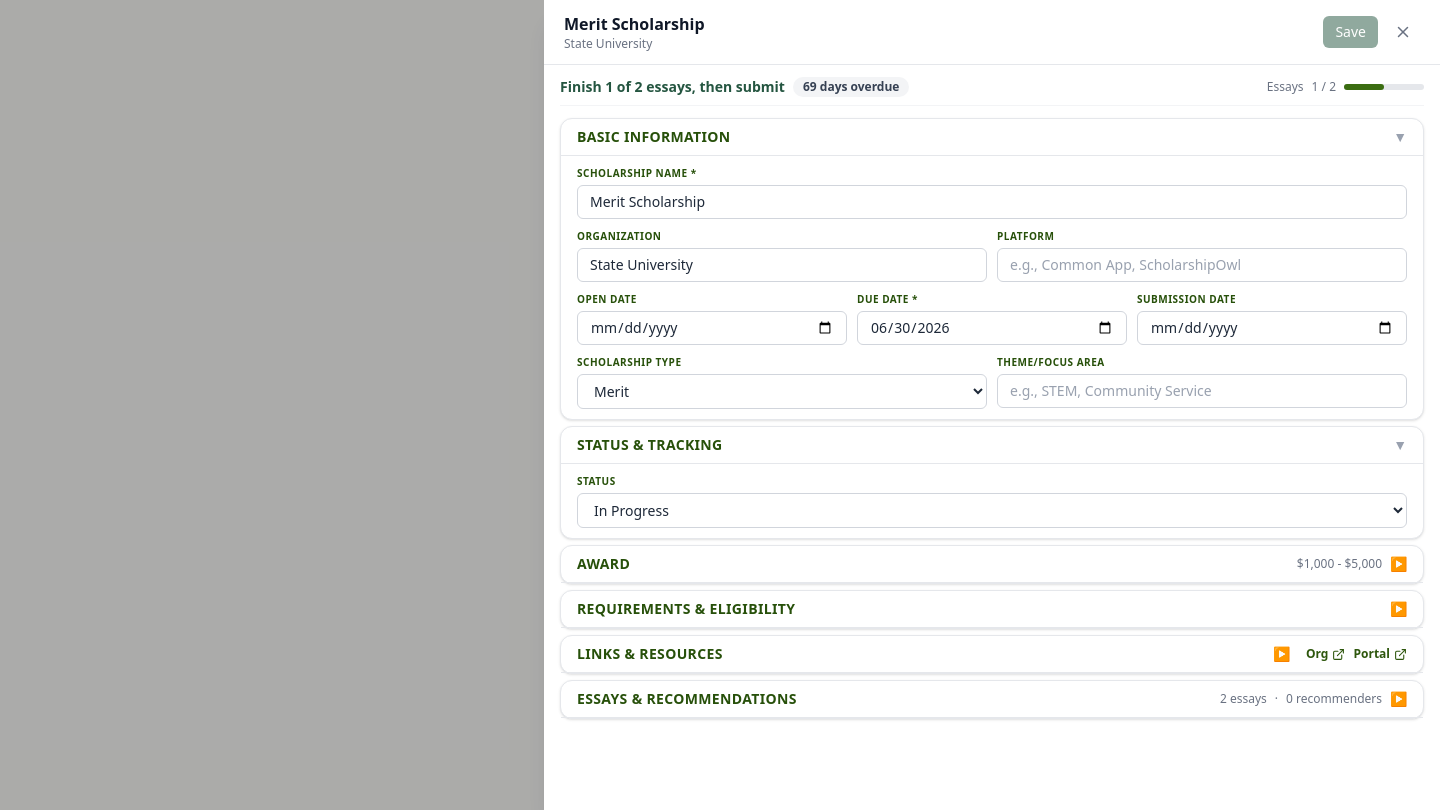
Test: ApplicationPanel › updates essay completion live from the status dropdown
Click the button "Essays & Recommendations 2 essays · 0 recommenders ▶" at point(687, 698), box [561,681,1423,718]
(page scrolled)
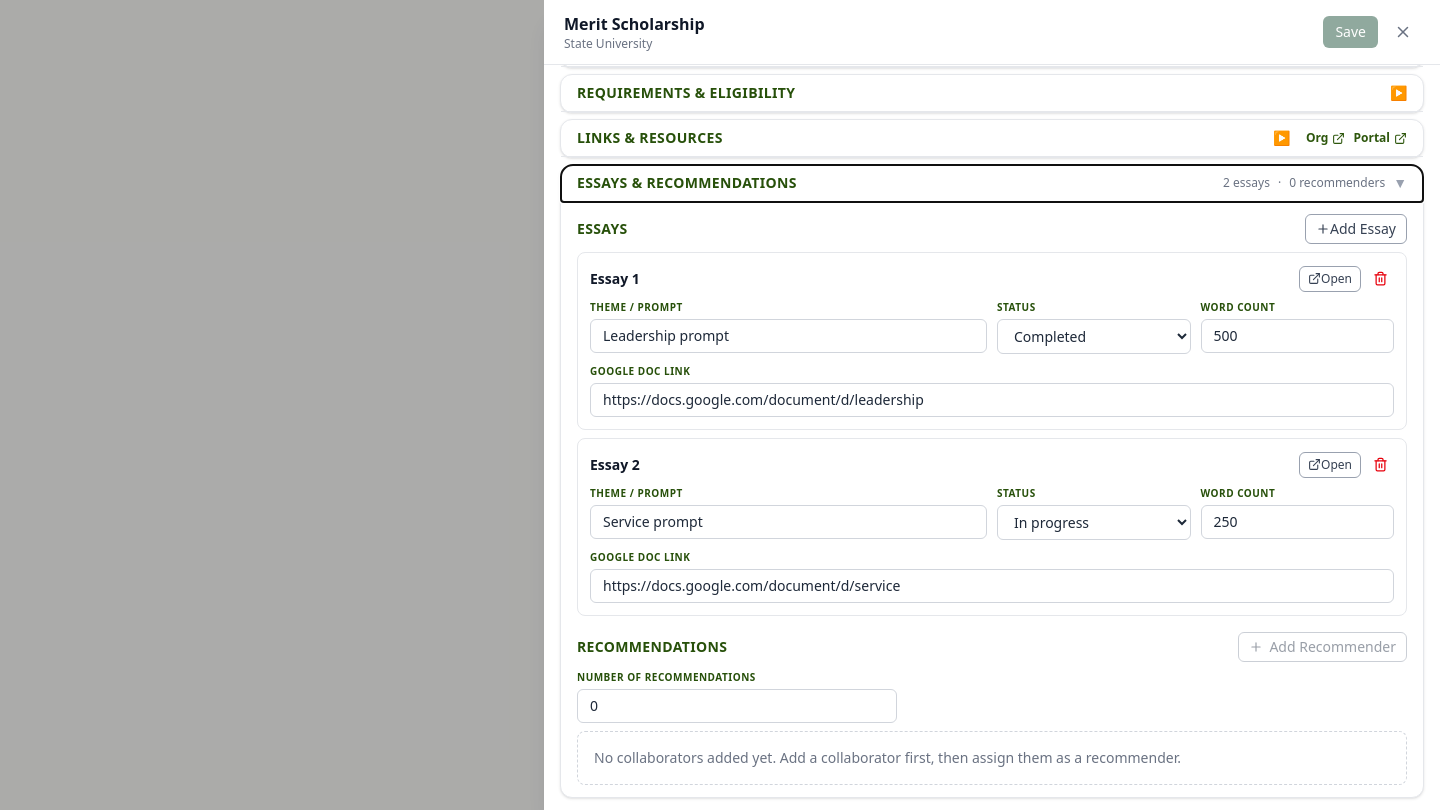
Check: the 2nd field showing "Service prompt" is shown, box [590,505,987,539]
Select "Completed" in the 2nd dropdown labelled "Status" at point(1094, 522), box [997,505,1190,540]
(page scrolled)
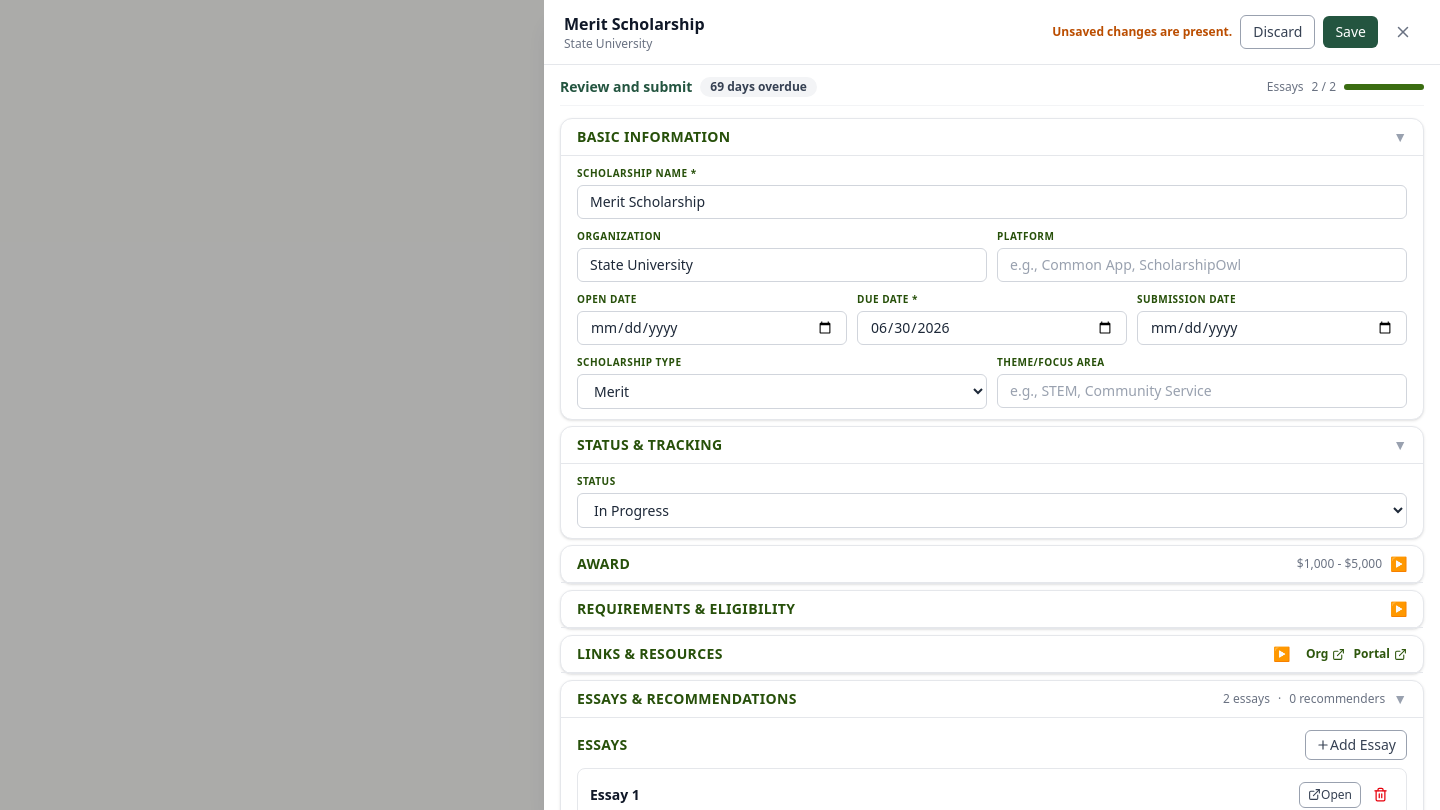
Check: the text "2 / 2" is shown, box [1312,79,1336,95]
Check: the text "Review and submit" is shown, box [560,77,692,97]
